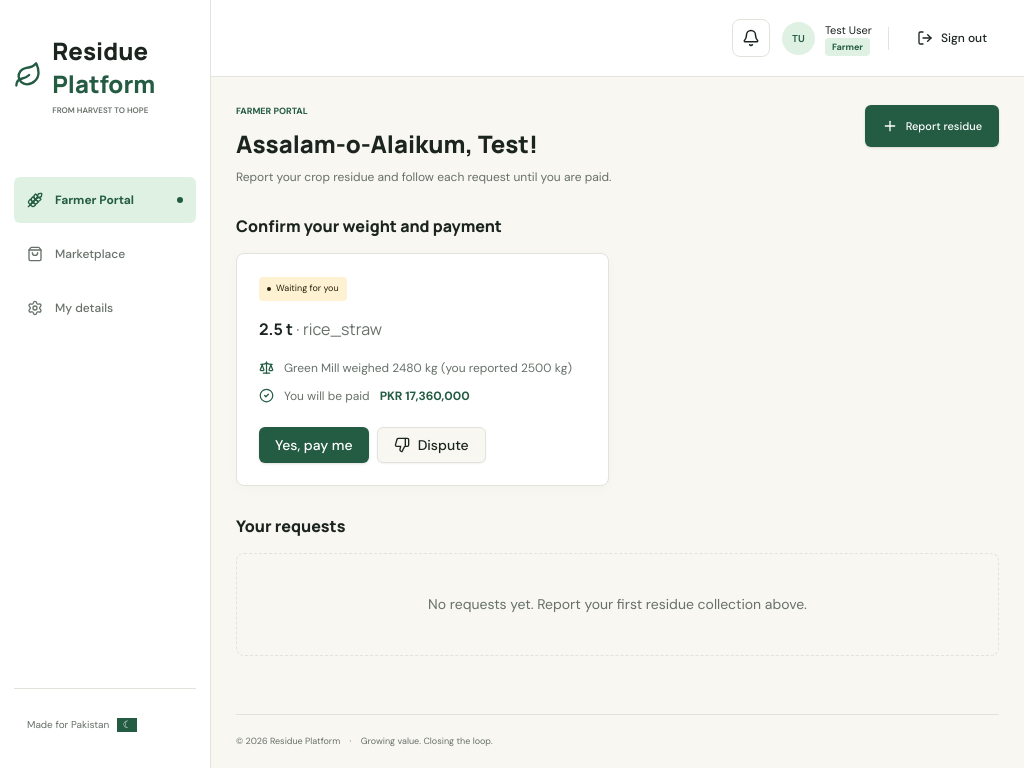
farmer: confirm the weight and payment › a dispute needs a reason, then freezes the money
The width and height of the screenshot is (1024, 768).
Click the button "Dispute": (431, 445) [377,427,486,463]
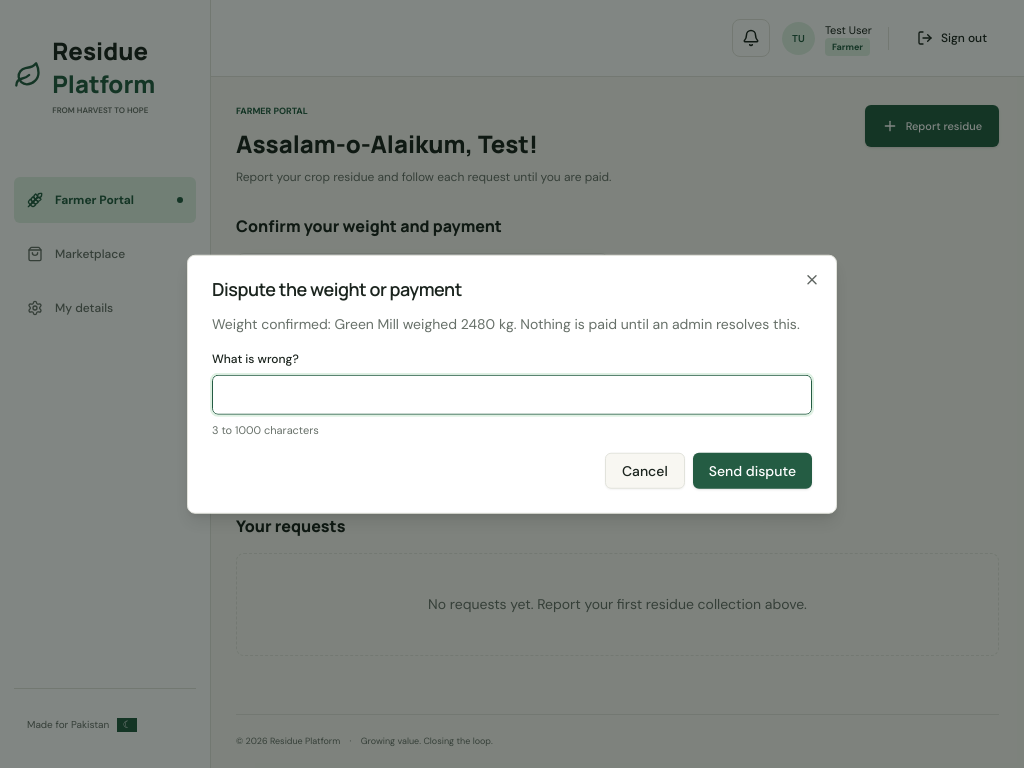
In the field labelled "What is wrong?": (512, 395) [212,375,812,415], type "no"
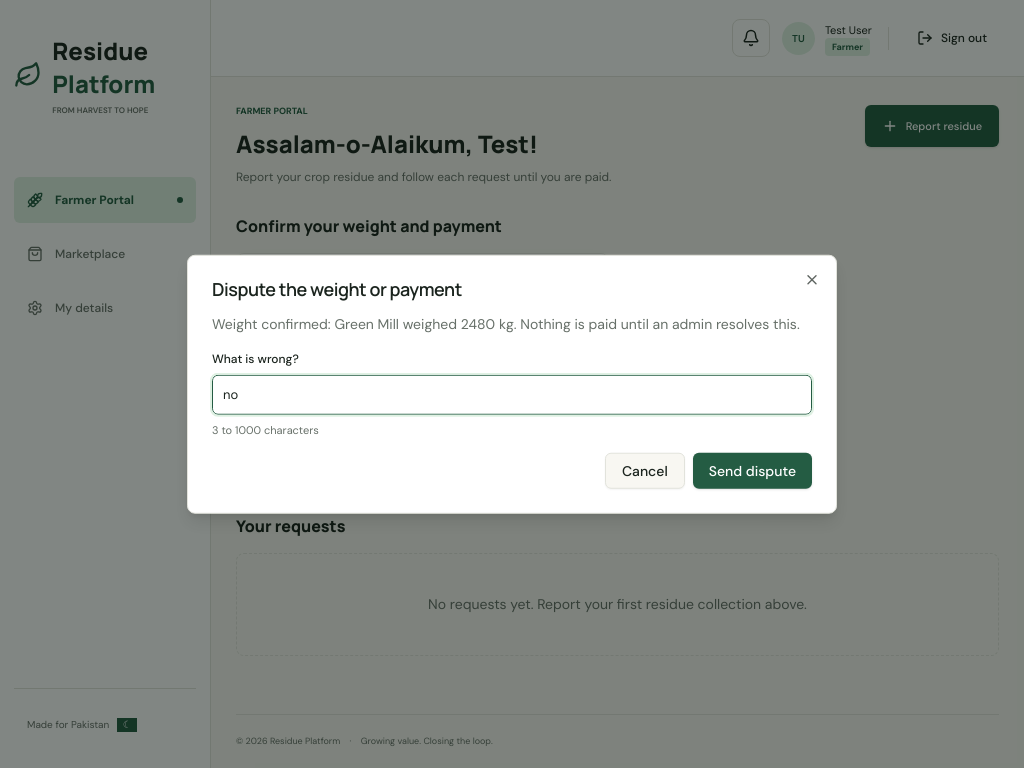
Click the button "Send dispute": (752, 470) [693,452,812,488]
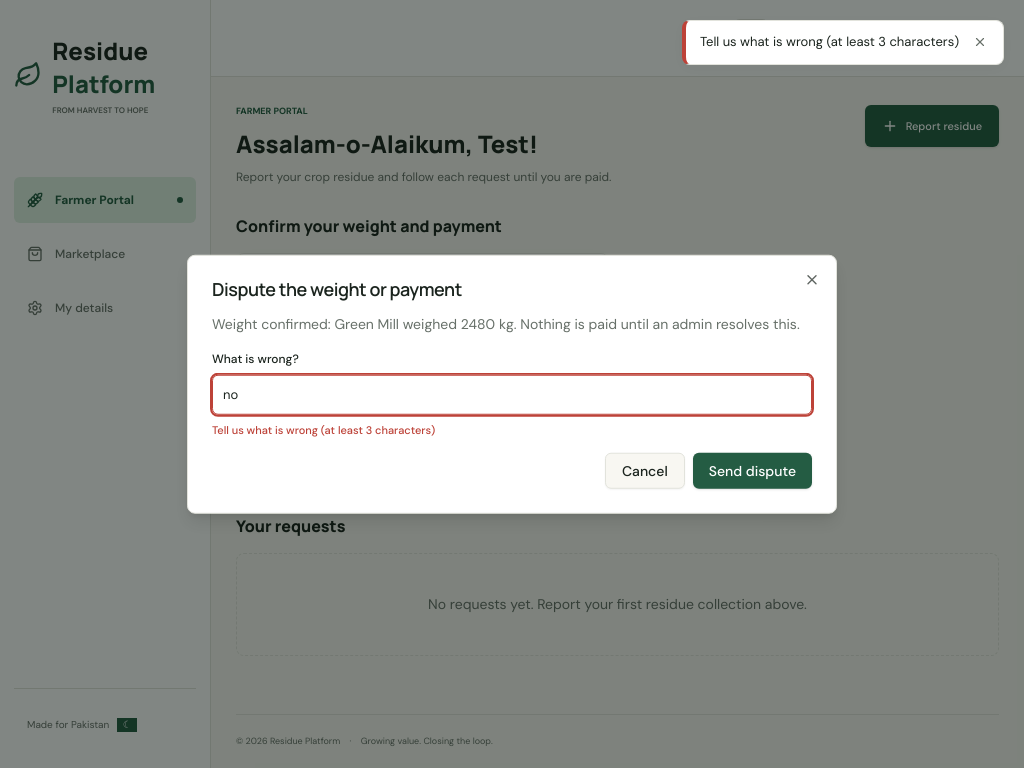
Result: the text "Tell us what is wrong (at least 3 characters)" is shown at [212,423,435,437]
Replace the text in the field labelled "What is wrong?" with "The weight is too low": (512, 395) [212,375,812,415]
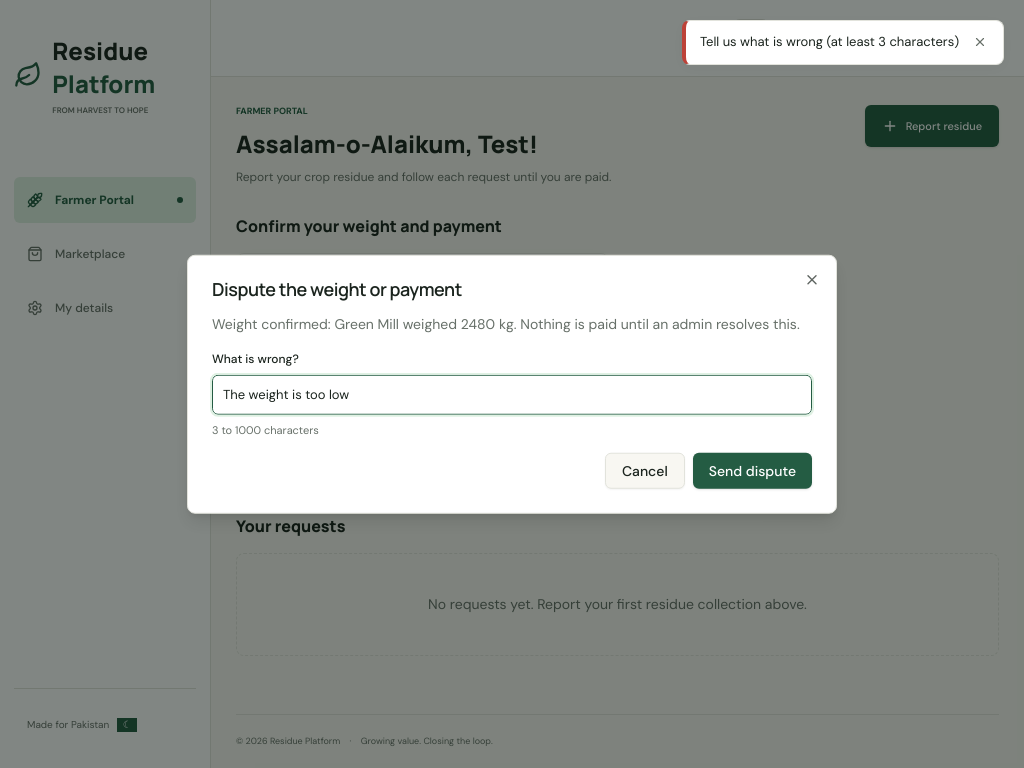
Click the button "Send dispute": (752, 470) [693,452,812,488]
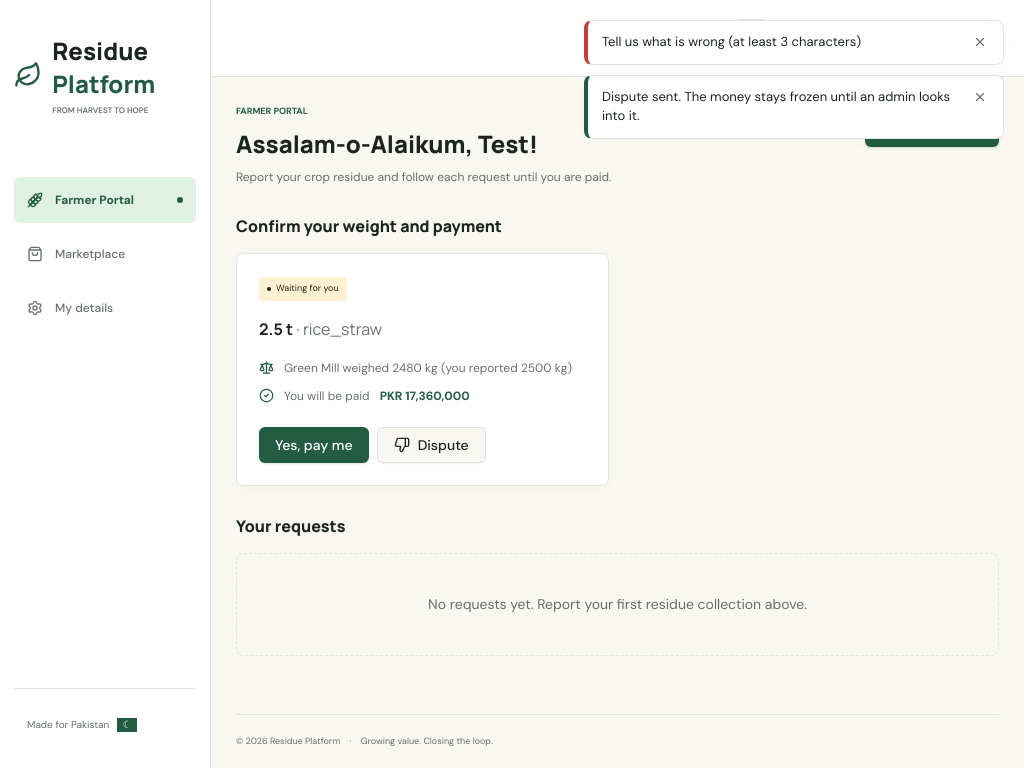
Result: the text "money stays frozen" is shown at [602,88,950,124]
